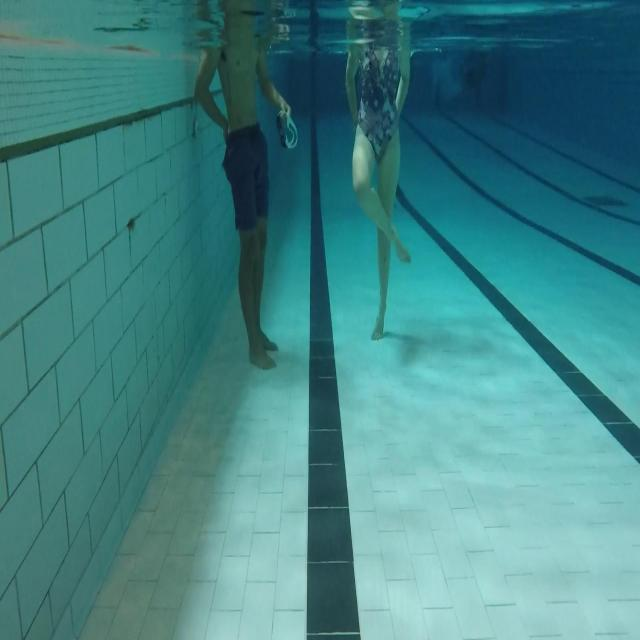human: (192, 1, 293, 370), (344, 1, 413, 341)
